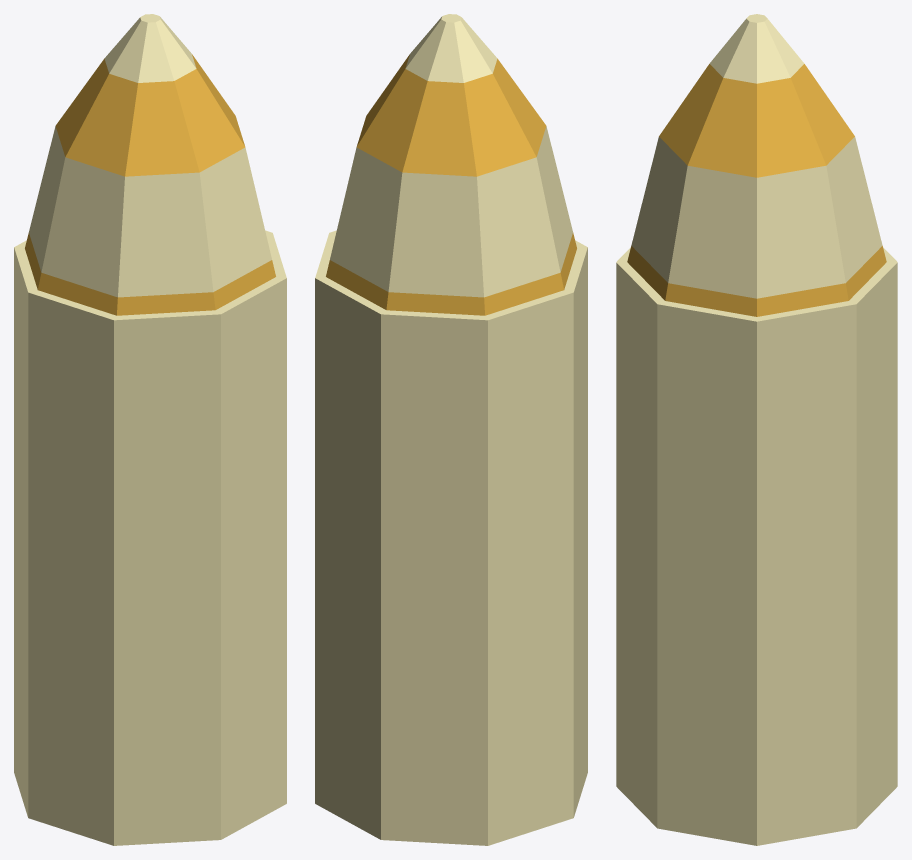
Rendered from ammoPickupMesh.fbx.
3 views of the same model, side by side, from view 1: azimuth 30°, elevation 25°; view 2: azimuth 150°, elevation 25°; view 3: azimuth 270°, elevation 25° (orthographic).
Visible parts, largest first — view 1: Cube; view 2: Cube; view 3: Cube.
Part boxes in pixels (<box>): Cube: <box>14,14,286,845</box>; Cube: <box>315,14,587,845</box>; Cube: <box>616,14,897,845</box>.
Bounding box in the file's own units: 97.37 × 293 × 97.37.
